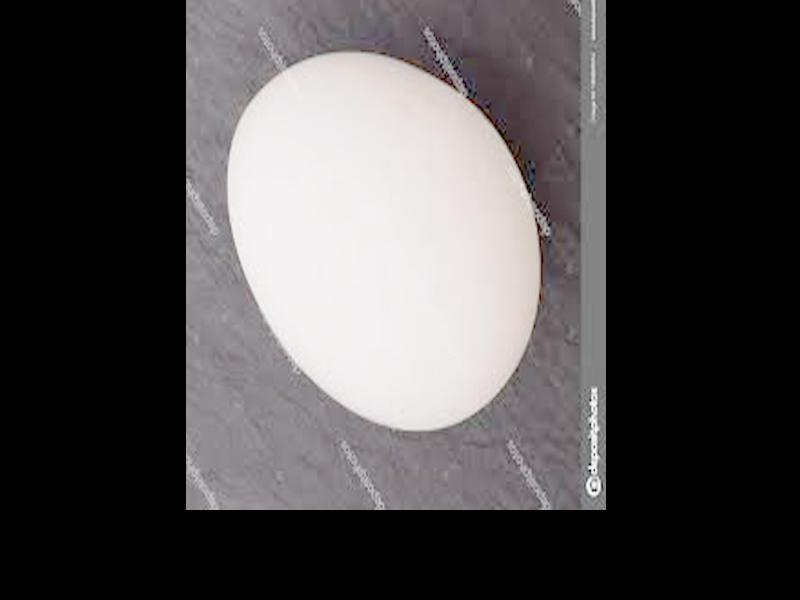Eggs: (229, 52, 540, 430)
